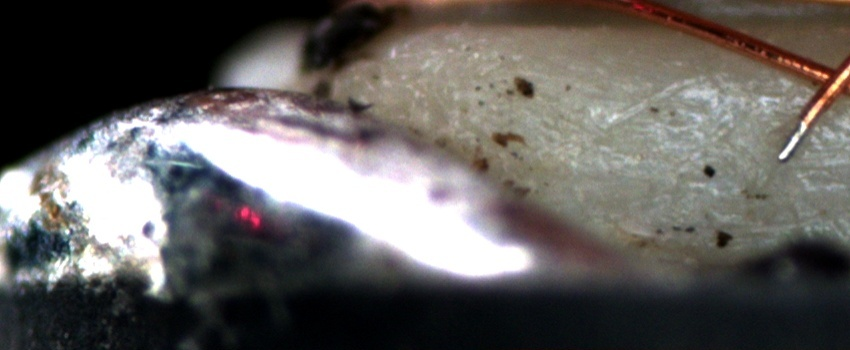CL: (798, 49, 849, 119)
DL: (618, 78, 850, 127)
TS: (778, 119, 806, 160)
